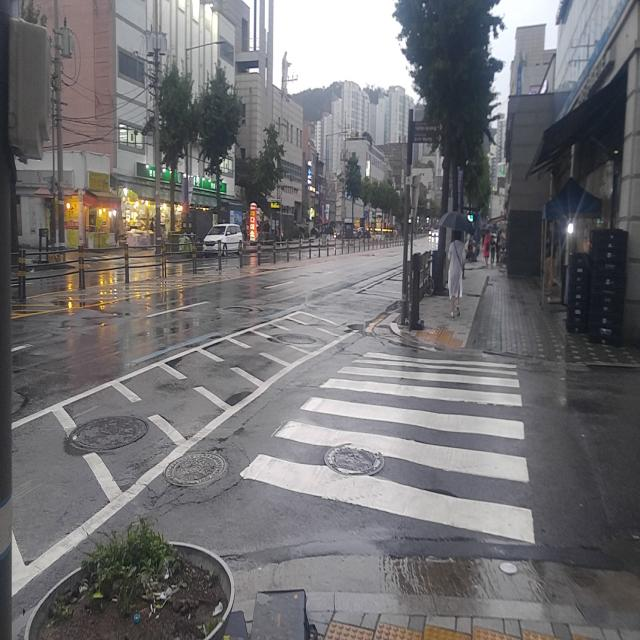횡단보도: (237, 350, 538, 548)
